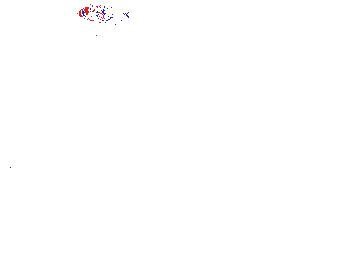X-ray fish: (216, 179, 256, 208)
glassfish: (288, 179, 346, 217)
red belly glassfish: (79, 6, 127, 23)
